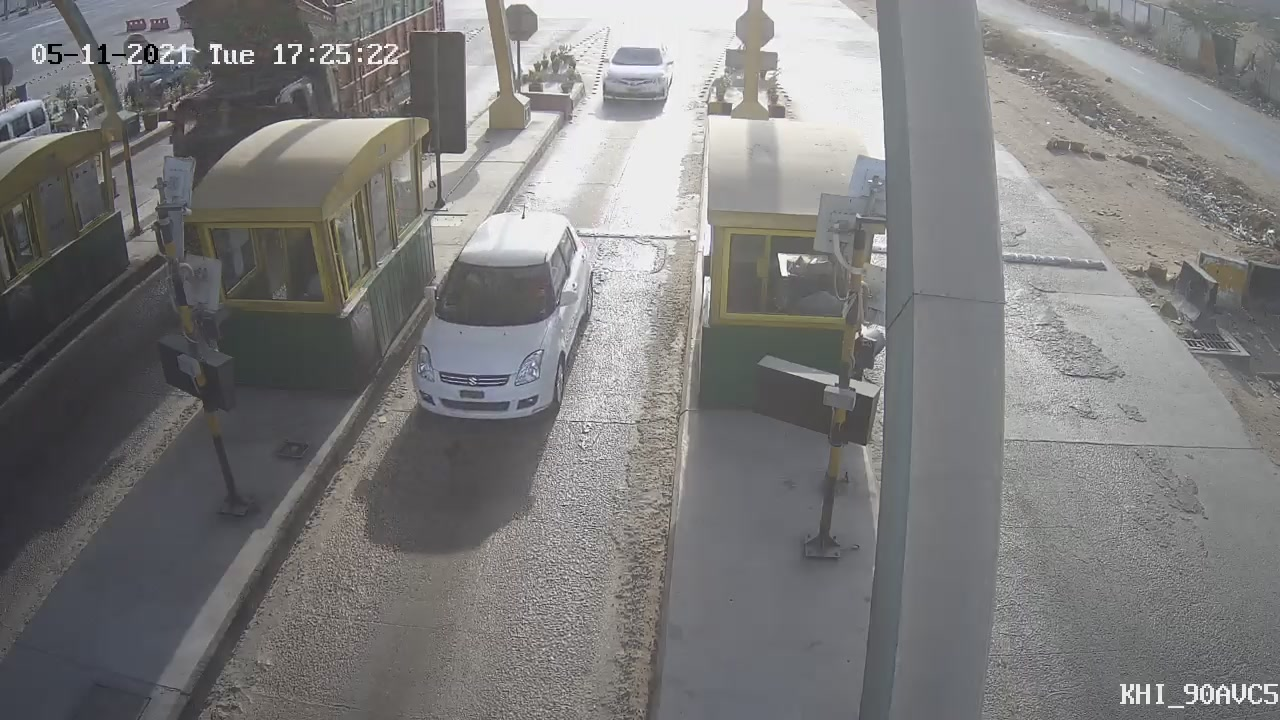F1: (389, 186, 614, 446)
